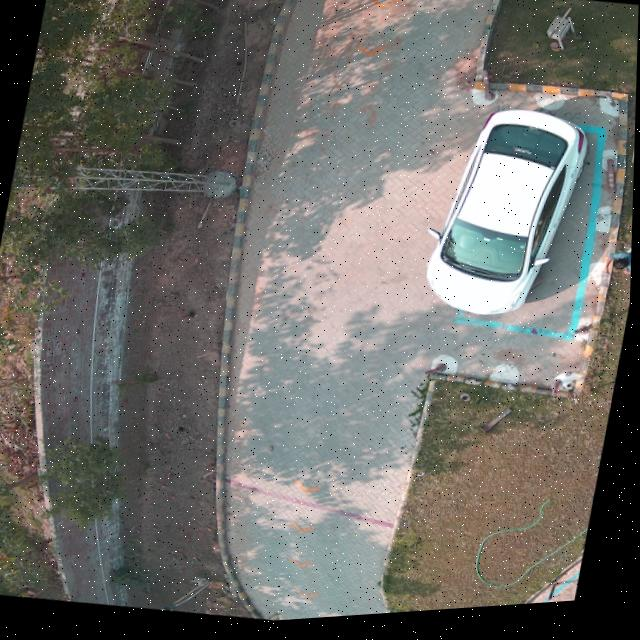car: (428, 116, 588, 321)
